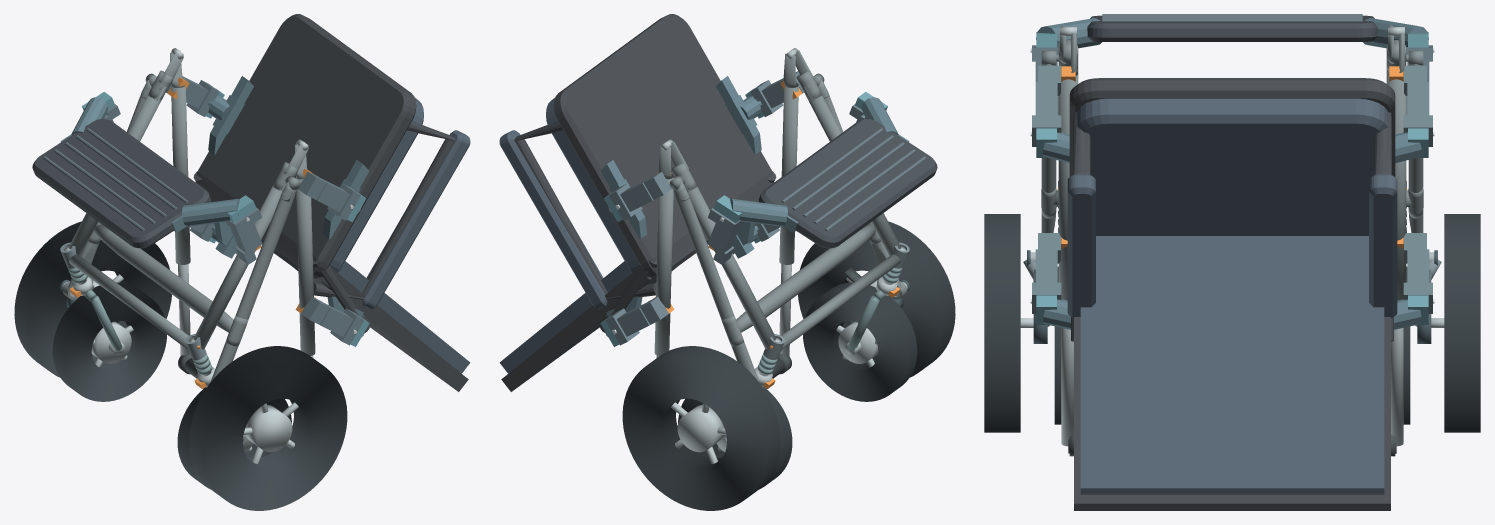
File: S09_w650_state3_wheel_L.glb
The picture shows the model from 3 angles, left to right: view 1: azimuth 30°, elevation 25°; view 2: azimuth 150°, elevation 25°; view 3: azimuth 270°, elevation 25°; orthographic projection. The views are drawn at different scales.
Parts seen in each view (by area): view 1: S09_Cabin, RL_tire.008, S09_Cabin_Footrest, FR_tire.008, RR_tire.008, V46_rearbar.009, S09_Cabin_Footrest_LowDocks, V46_rear_leg_-1.009, main_upper_-1.009, main_lower_-1.009, main_upper_1.009, front_fixed_round_tube.008 (+13 smaller); view 2: S09_Cabin, RR_tire.008, S09_Cabin_Footrest, FL_tire.008, RL_tire.008, V46_rearbar.009, S09_Cabin_Footrest_LowDocks, V46_rear_leg_1.009, main_upper_1.009, main_lower_1.009, main_upper_-1.009, front_fixed_round_tube.008 (+13 smaller); view 3: S09_Cabin, RL_tire.008, RR_tire.008, S09_Cabin_Footrest, S09_Cabin_Footrest_LowDocks, S09_Cabin_Mount_M, S09_Cabin_HighDocks, main_upper_1.009, main_upper_-1.009, Universal_Cabin_Receiver_M_-1, Universal_Cabin_Receiver_M_1, Universal_Cabin_Receiver_H_1 (+7 smaller).
Part boxes in pixels (left/top/right/bottom): S09_Cabin: left=193, top=14, right=470, bottom=391; RL_tire.008: left=189, top=346, right=347, bottom=510; S09_Cabin_Footrest: left=32, top=119, right=211, bottom=248; FR_tire.008: left=52, top=282, right=166, bottom=401; RR_tire.008: left=14, top=221, right=171, bottom=377; V46_rearbar.009: left=94, top=224, right=233, bottom=332; S09_Cabin_Footrest_LowDocks: left=60, top=92, right=256, bottom=232; V46_rear_leg_-1.009: left=210, top=189, right=295, bottom=382; main_upper_-1.009: left=296, top=177, right=315, bottom=355; main_lower_-1.009: left=193, top=184, right=285, bottom=349; main_upper_1.009: left=171, top=85, right=190, bottom=264; front_fixed_round_tube.008: left=69, top=254, right=188, bottom=349; S09_Cabin: left=499, top=14, right=776, bottom=391; RR_tire.008: left=622, top=346, right=780, bottom=510; S09_Cabin_Footrest: left=758, top=119, right=937, bottom=248; FL_tire.008: left=803, top=282, right=917, bottom=401; RL_tire.008: left=798, top=221, right=955, bottom=377; V46_rearbar.009: left=736, top=224, right=875, bottom=332; S09_Cabin_Footrest_LowDocks: left=713, top=92, right=909, bottom=232; V46_rear_leg_1.009: left=674, top=189, right=759, bottom=382; main_upper_1.009: left=654, top=175, right=673, bottom=355; main_lower_1.009: left=684, top=184, right=776, bottom=349; main_upper_-1.009: left=779, top=84, right=798, bottom=264; front_fixed_round_tube.008: left=781, top=254, right=900, bottom=349; S09_Cabin: left=1067, top=78, right=1397, bottom=510; RL_tire.008: left=984, top=214, right=1020, bottom=432; RR_tire.008: left=1444, top=214, right=1480, bottom=432; S09_Cabin_Footrest: left=1087, top=14, right=1377, bottom=41; S09_Cabin_Footrest_LowDocks: left=1030, top=18, right=1434, bottom=52; S09_Cabin_Mount_M: left=1030, top=128, right=1434, bottom=163; S09_Cabin_HighDocks: left=1030, top=295, right=1434, bottom=329; main_upper_1.009: left=1386, top=72, right=1406, bottom=300; main_upper_-1.009: left=1058, top=74, right=1078, bottom=300; Universal_Cabin_Receiver_M_-1: left=1032, top=65, right=1061, bottom=146; Universal_Cabin_Receiver_M_1: left=1403, top=65, right=1432, bottom=146; Universal_Cabin_Receiver_H_1: left=1403, top=233, right=1432, bottom=313.
Size of the model in its own units: 0.8257 by 0.824 by 0.8171.
